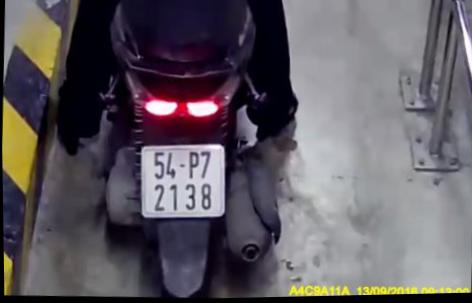LP: (138, 142, 228, 222)
